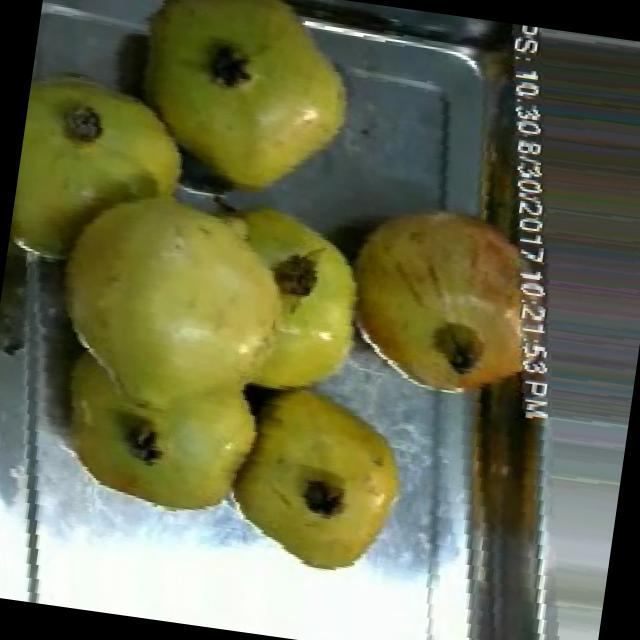fruit: (24, 297, 304, 554), (105, 0, 389, 224), (324, 179, 566, 417), (200, 358, 432, 600), (5, 48, 227, 288)
